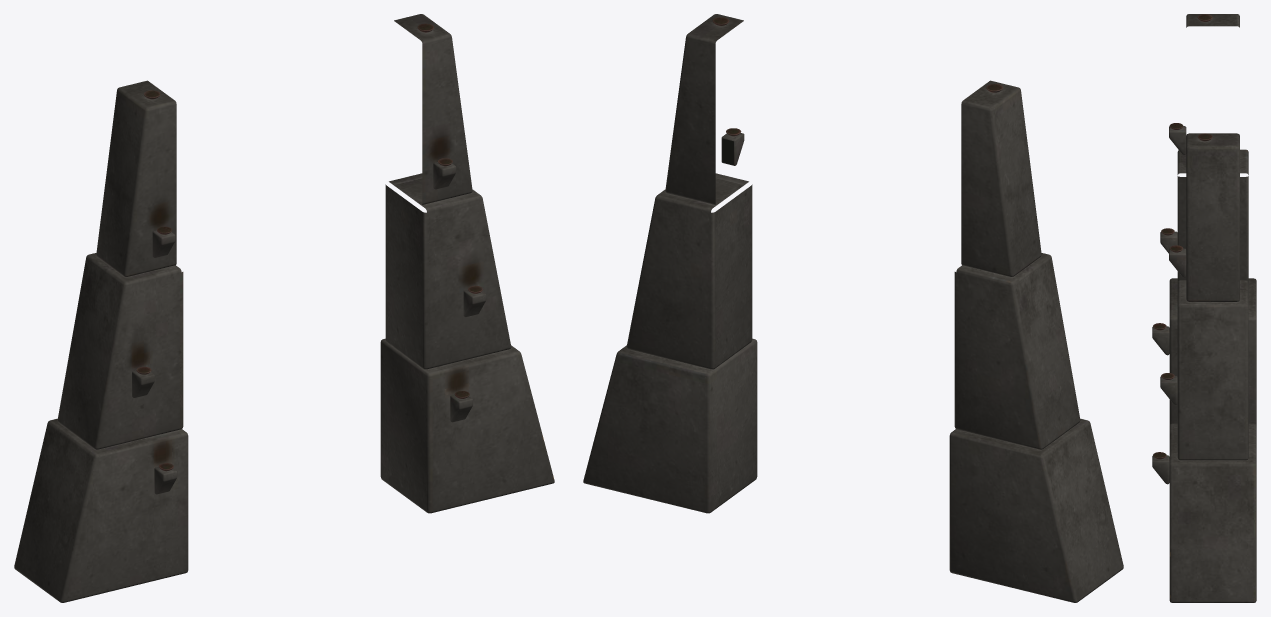
The model's file is portao.glb.
3 renders of one model, left to right at view 1: azimuth 30°, elevation 25°; view 2: azimuth 150°, elevation 25°; view 3: azimuth 270°, elevation 25°, orthographic. The views are drawn at different scales.
Parts seen in each view (by area): view 1: Mesh_JP_Gate_Substance; view 2: Mesh_JP_Gate_Substance; view 3: Mesh_JP_Gate_Substance.
Part boxes in pixels (bbox=[...]): Mesh_JP_Gate_Substance: bbox=[14, 14, 554, 602]; Mesh_JP_Gate_Substance: bbox=[583, 14, 1123, 602]; Mesh_JP_Gate_Substance: bbox=[1152, 14, 1256, 602].
Bounding box in the file's own units: 10.14 × 9.2 × 2.08.
1 material, 1 textured.
